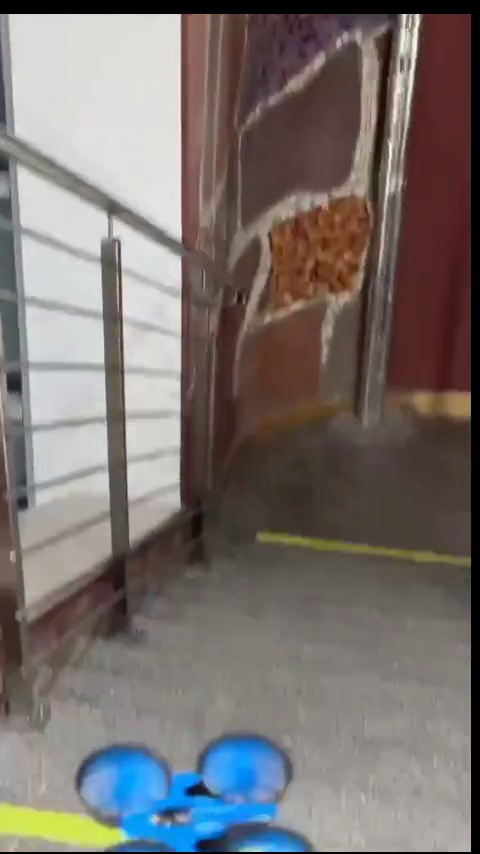drone: (78, 733, 315, 850)
